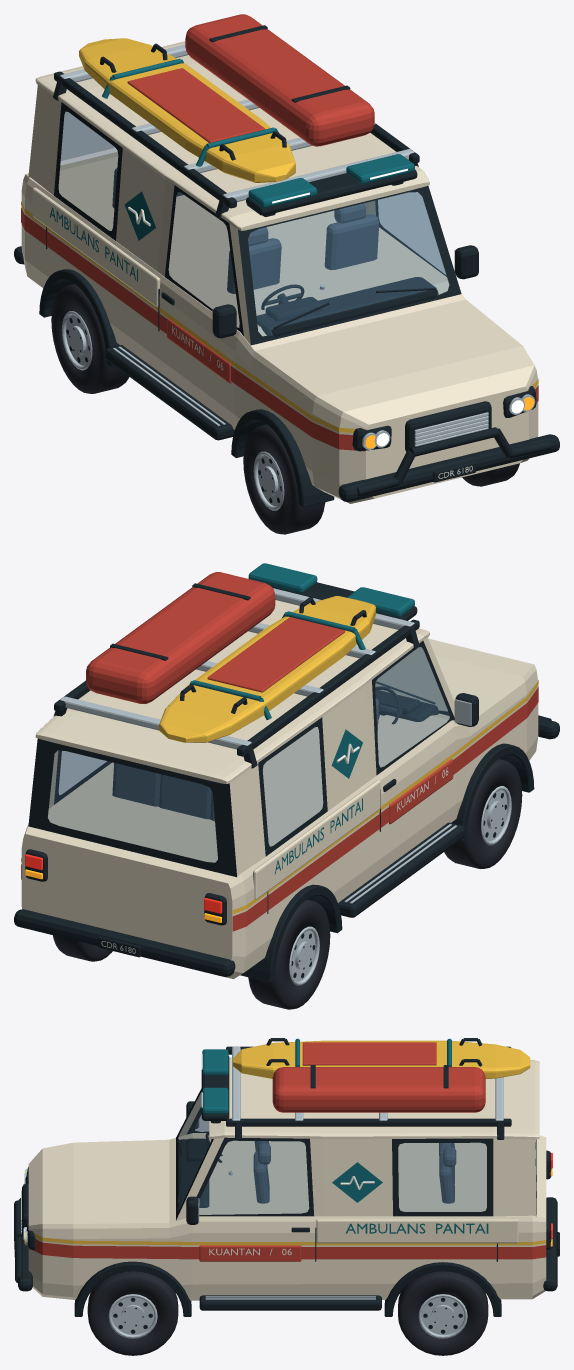
3 views of the same model, one above another, from view 1: azimuth 30°, elevation 25°; view 2: azimuth 150°, elevation 25°; view 3: azimuth 270°, elevation 25° (orthographic). The views are drawn at different scales.
Visible parts, largest first — view 1: Kuantan Surf Ambulance; view 2: Kuantan Surf Ambulance; view 3: Kuantan Surf Ambulance.
Boxes of the visible parts, x1,y1,x2,y2 form: Kuantan Surf Ambulance: (14,14,559,534); Kuantan Surf Ambulance: (14,563,559,1009); Kuantan Surf Ambulance: (14,1038,559,1355).
Size of the model in its own units: 2.3 by 2.65 by 5.12.
